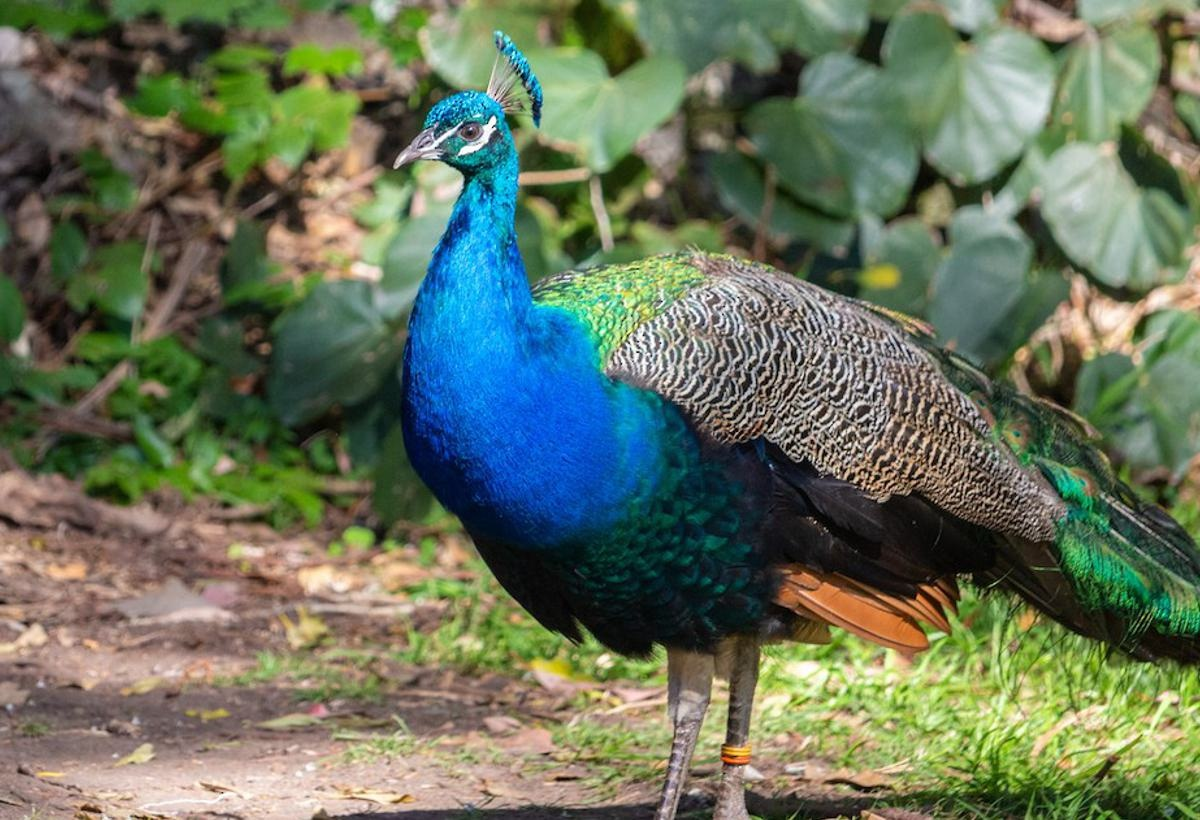peacock: (368, 58, 1158, 737)
